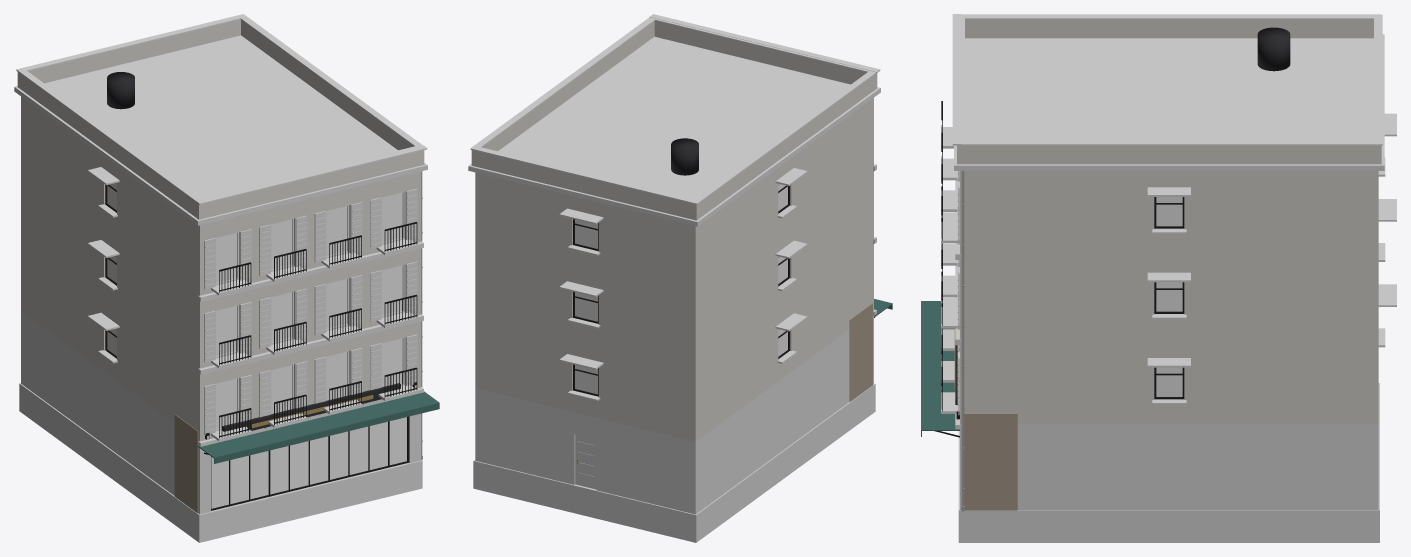
The model's file is shop_house_10x14_4.glb.
3 views of the same model, side by side, from view 1: azimuth 30°, elevation 25°; view 2: azimuth 150°, elevation 25°; view 3: azimuth 270°, elevation 25° (orthographic). The views are drawn at different scales.
Parts seen in each view (by area): view 1: shop_house_10x14_4; view 2: shop_house_10x14_4; view 3: shop_house_10x14_4.
Part boxes in pixels (x1,y1,x2,y2): shop_house_10x14_4: [14, 14, 439, 542]; shop_house_10x14_4: [468, 14, 892, 542]; shop_house_10x14_4: [921, 14, 1396, 542].
Bounding box in the file's own units: 11.22 × 15.25 × 15.92.
